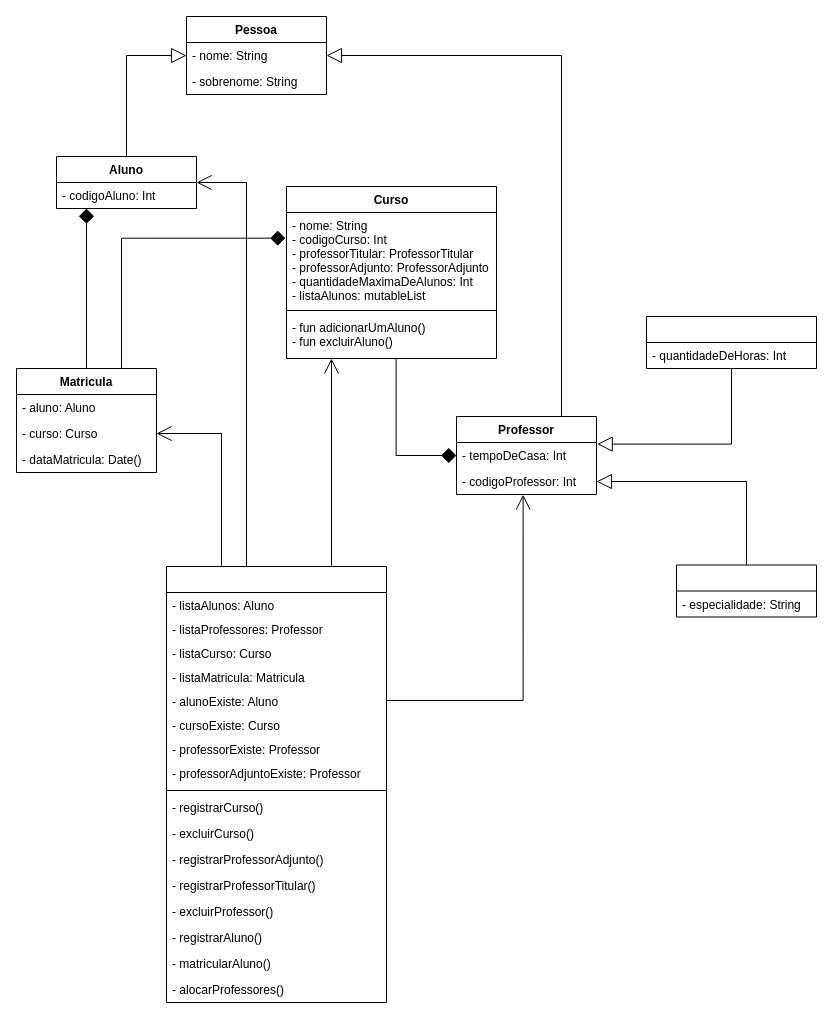
Some shapes in this 833 by 1019 pixel diagram are drawn without their labels. The shapes that lost their labels are listed below. From the top down, each one's box as (x1, y1, x2, y2) in pixels, then its label:
(646, 316, 816, 368): ProfessorAdjunto
(676, 564, 816, 617): ProfessorTitular
(166, 566, 386, 1002): DigitalHouseManager
